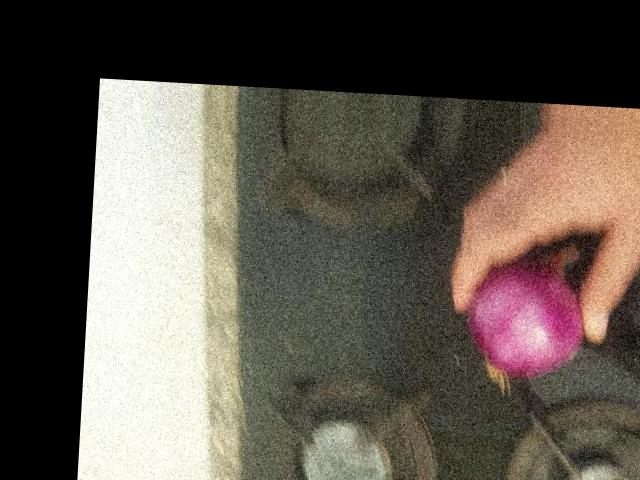onion: (465, 251, 592, 379)
